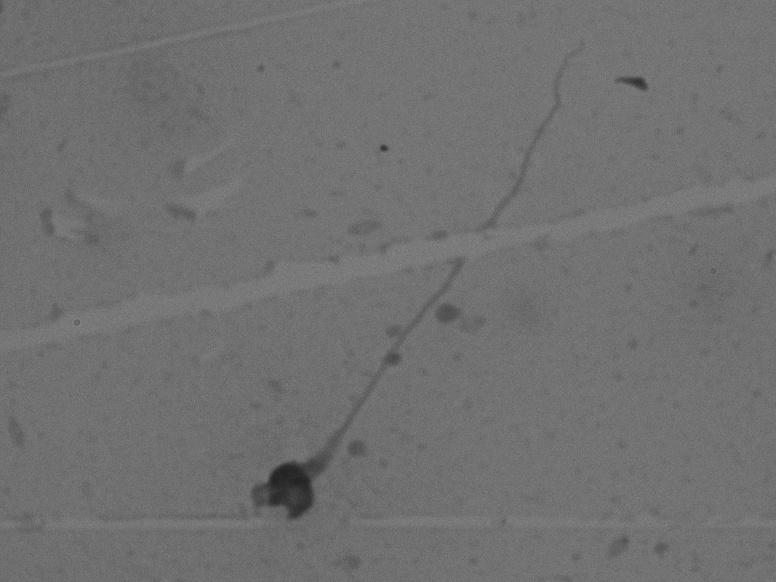Abnormal: (222, 40, 607, 563)
